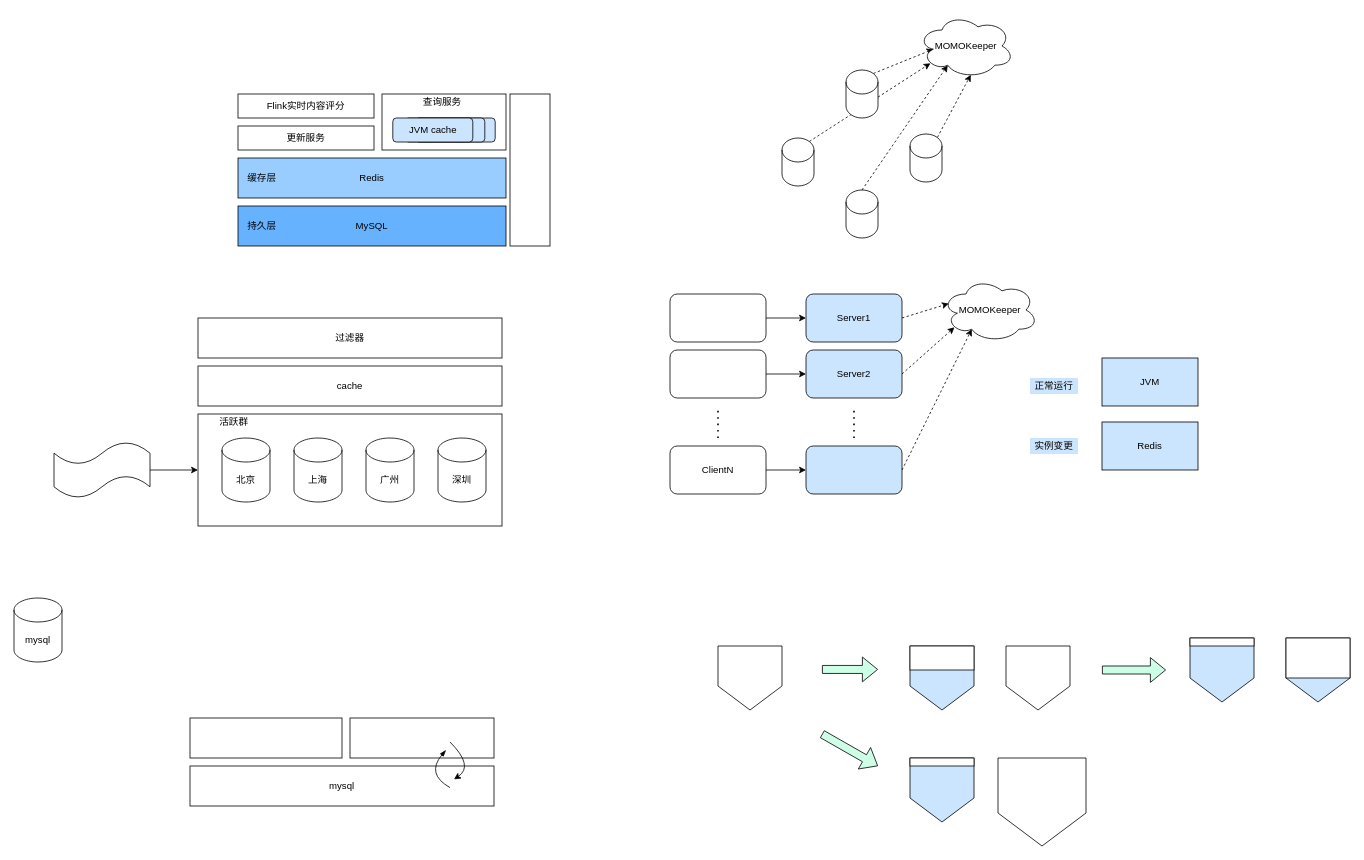
Image size: 1364x860. Some labels were removed from this diagram. The centre of each missing label's shape, as x and y in pixels:
Client1: point 717,317
Client2: point 717,373
flink 群消息: point 101,469
loader: point 421,737
schedule: point 265,737
ServerN: point 853,469
事件 总线: point 529,169
